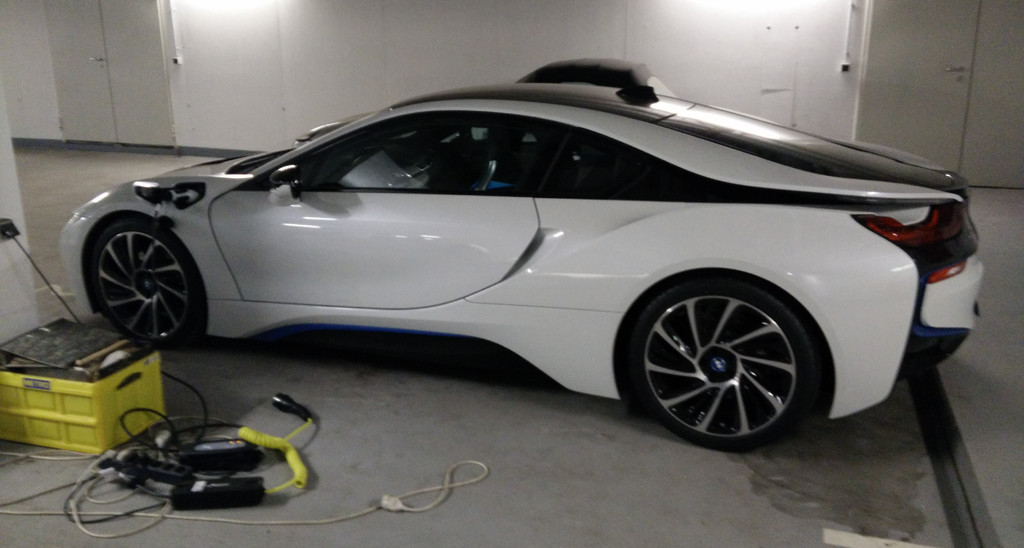Car: (56, 81, 984, 452)
